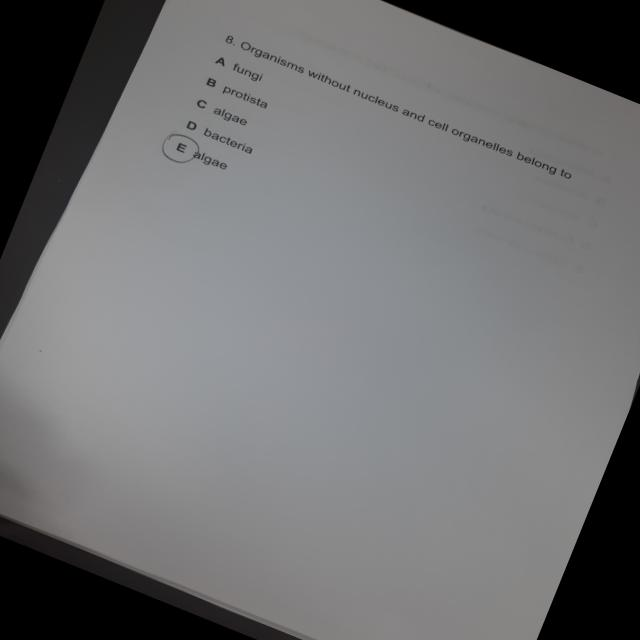E: (154, 126, 205, 170)
